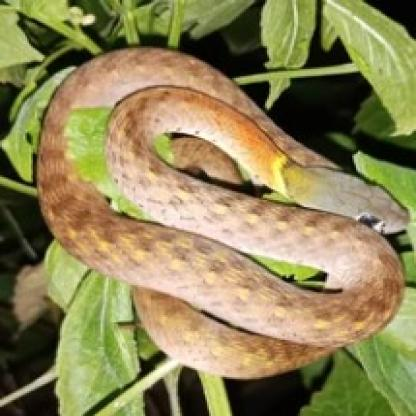snakes: (29, 41, 411, 378)
